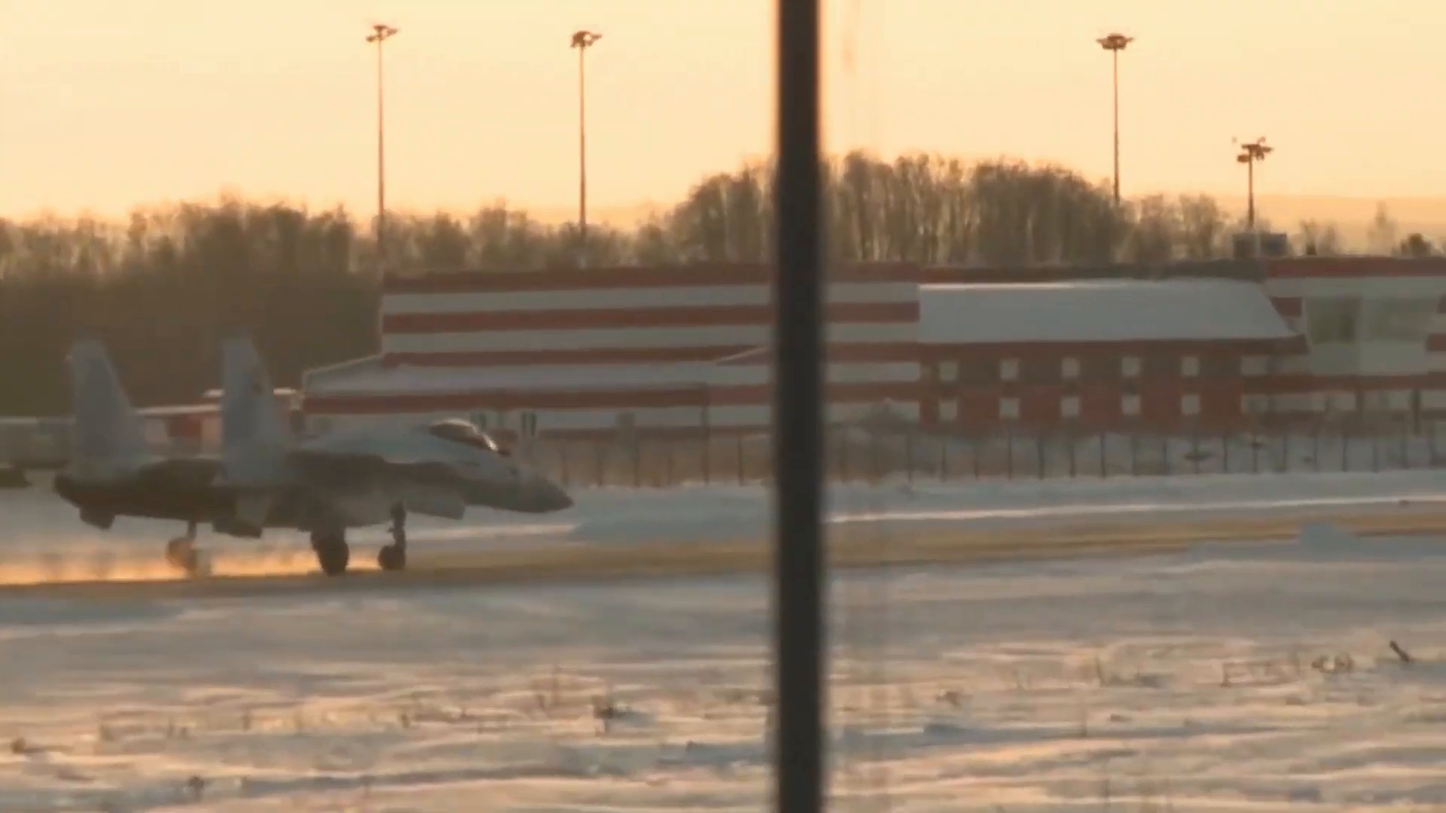Su35: (52, 336, 576, 578)
